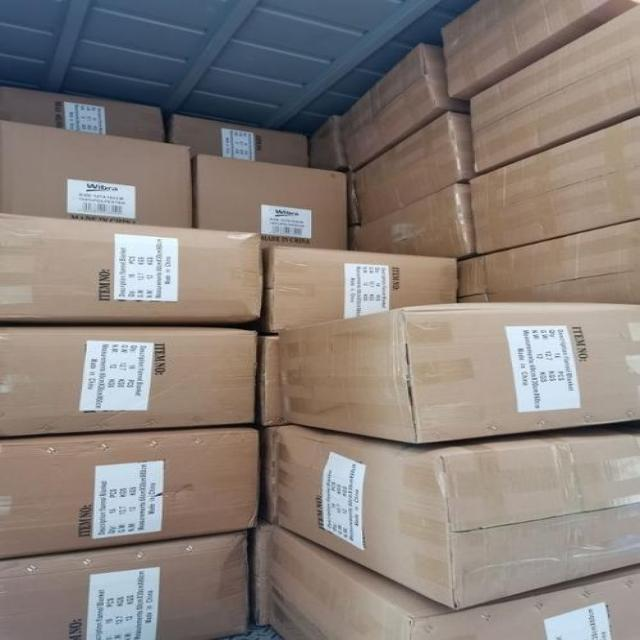box: (276, 418, 640, 610), (279, 301, 640, 443), (269, 525, 640, 640), (0, 424, 260, 559), (466, 4, 640, 179), (0, 324, 262, 439), (0, 211, 264, 325), (0, 526, 260, 640), (468, 113, 640, 256), (0, 117, 192, 227), (440, 0, 640, 103), (340, 43, 474, 173), (260, 246, 458, 333), (456, 218, 640, 305), (189, 154, 348, 251), (348, 108, 476, 228), (0, 84, 172, 143), (346, 182, 479, 258), (165, 111, 311, 167), (248, 525, 282, 627), (257, 333, 284, 427), (305, 113, 348, 171), (256, 428, 280, 525)
